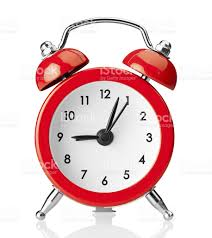alarm_clock: (25, 17, 182, 218), (25, 23, 182, 218)
